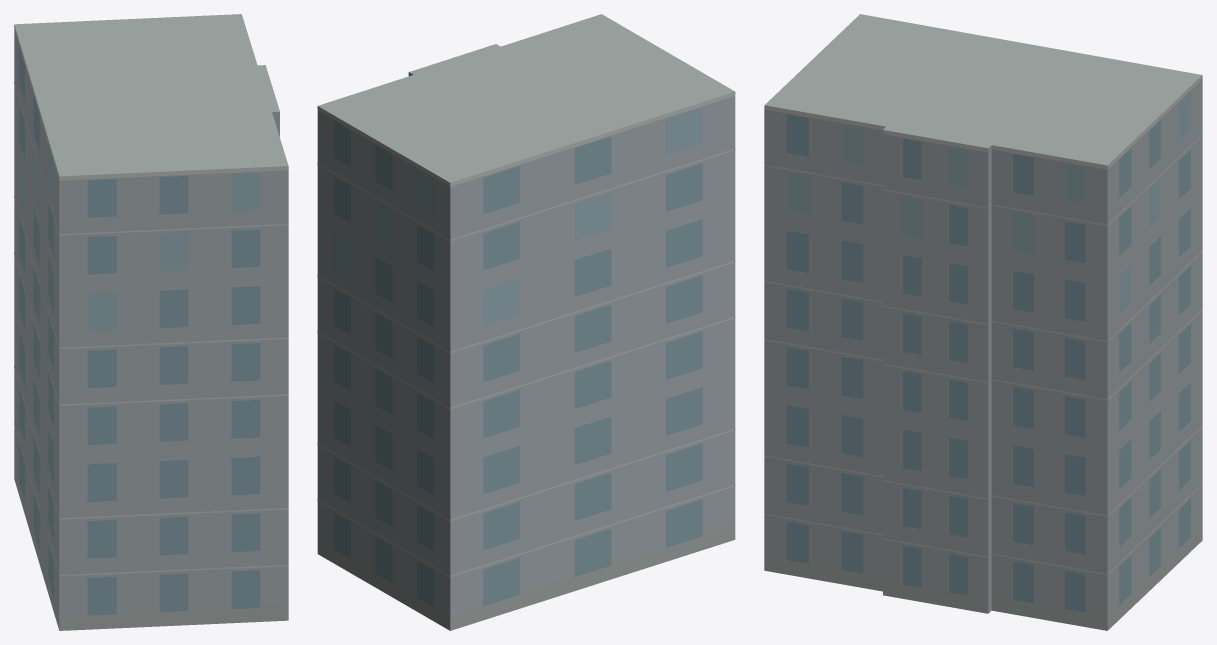
Rendered from survey-upis-32568426.glb.
3 renders of one model, left to right at view 1: azimuth 30°, elevation 25°; view 2: azimuth 150°, elevation 25°; view 3: azimuth 270°, elevation 25°, orthographic. The views are drawn at different scales.
Parts seen in each view (by area): view 1: survey-upis-32568426.tmp; view 2: survey-upis-32568426.tmp; view 3: survey-upis-32568426.tmp.
Part boxes in pixels (left/top/right/bottom): survey-upis-32568426.tmp: left=14, top=14, right=288, bottom=630; survey-upis-32568426.tmp: left=317, top=14, right=735, bottom=630; survey-upis-32568426.tmp: left=764, top=14, right=1202, bottom=630.
Bounding box in the file's own units: 18.24 × 26.1 × 22.29.
